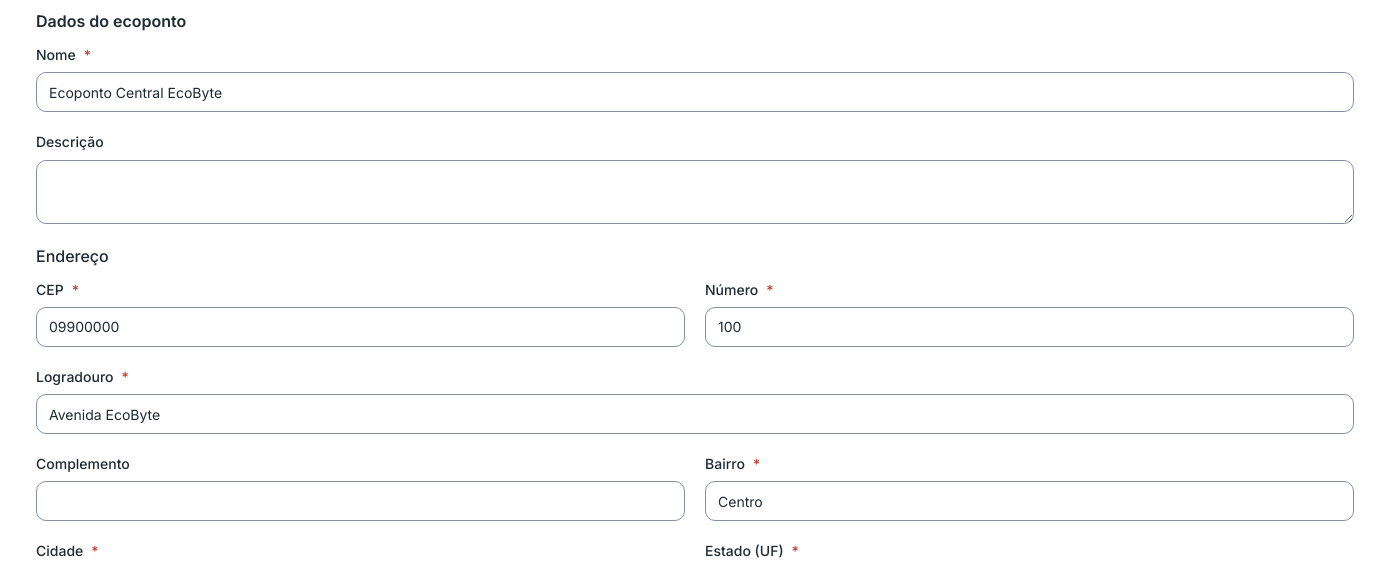
it: AdminEcopoint (RF-039, DEC-065, DEC-076) › envia os dados, com a localização em GeoJSON [longitude, latitude]
The image size is (1378, 568).
Step 1. Replace the text in the field labelled "Nome *" with "EcoByte Diadema" → (695, 92), box top-left (36, 72), bottom-right (1354, 112)
(page scrolled)
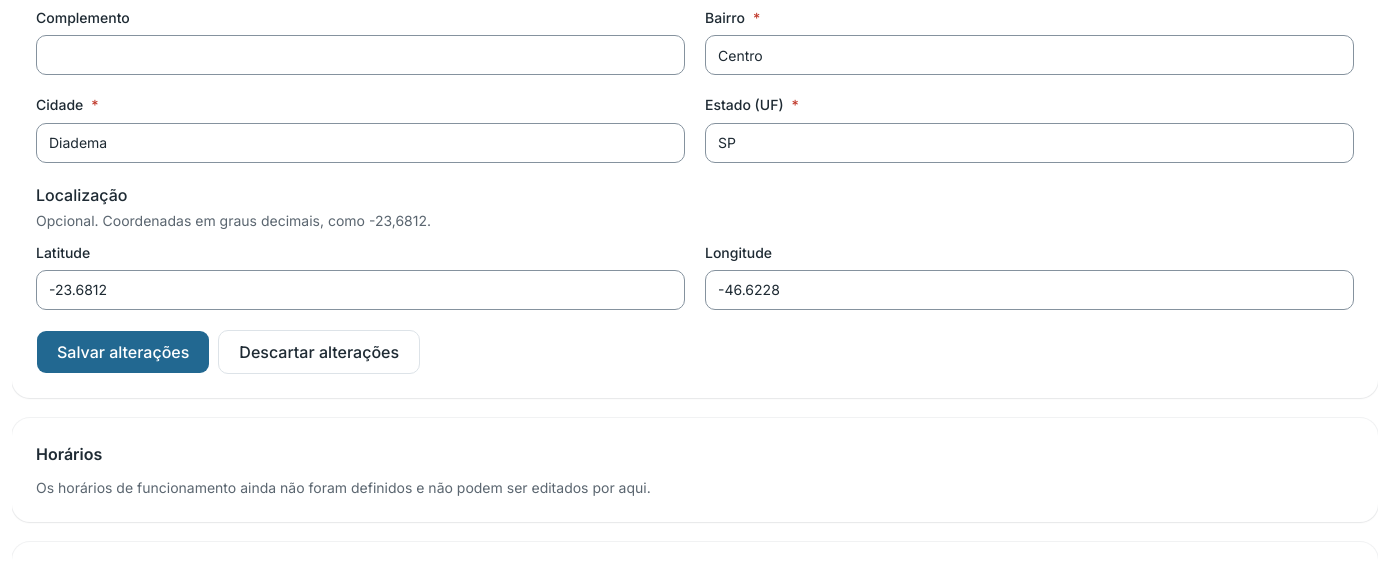
Step 2. Replace the text in the field labelled "Latitude" with "-23,7" → (360, 290), box top-left (36, 270), bottom-right (685, 310)
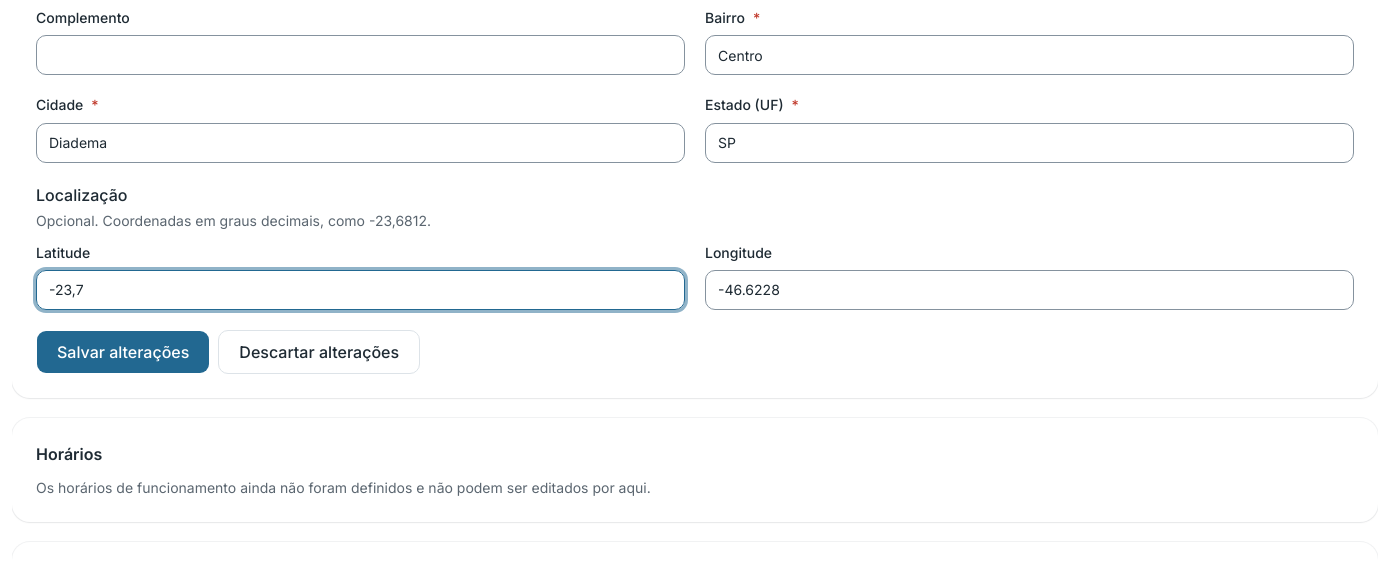
Step 3. Click the button "Salvar alterações" → (123, 352), box top-left (36, 330), bottom-right (210, 374)
(page scrolled)
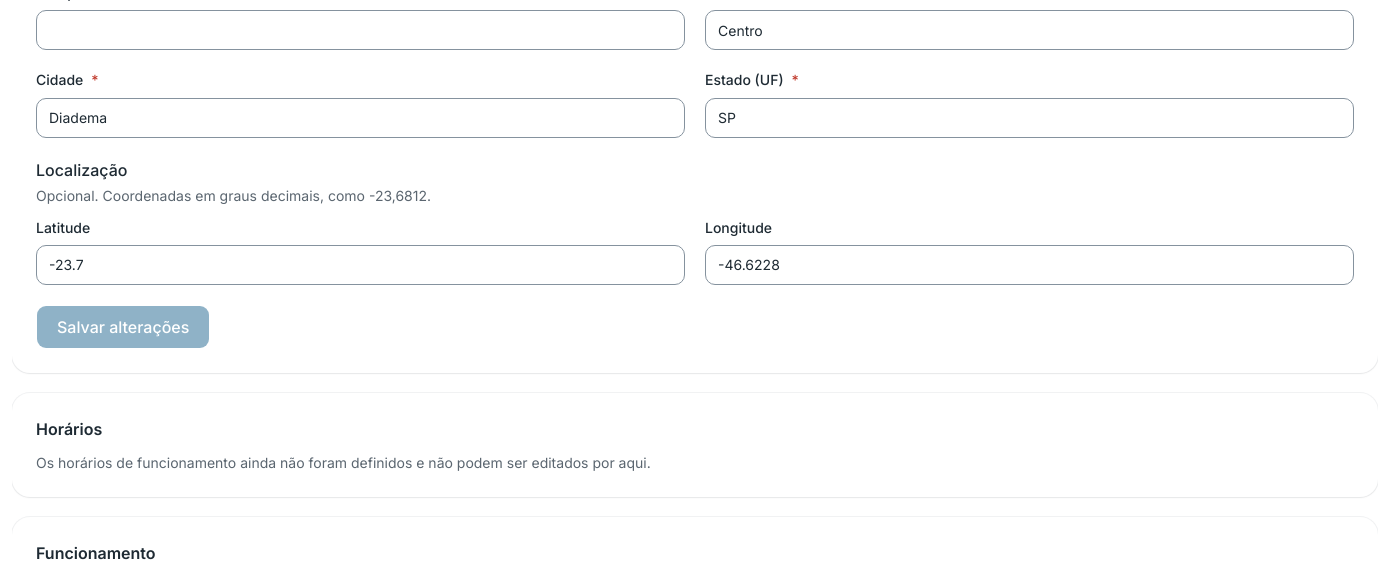
Now the button "Salvar alterações" is disabled, box top-left (36, 305), bottom-right (210, 349)
